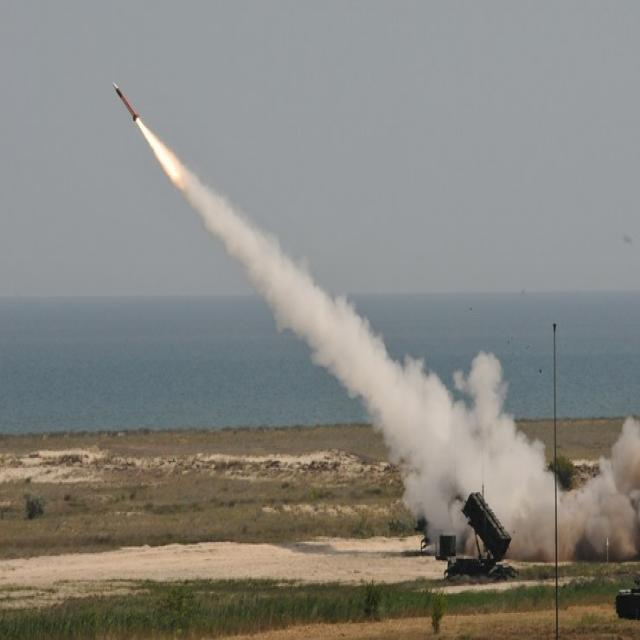Missile: (105, 71, 141, 126)
